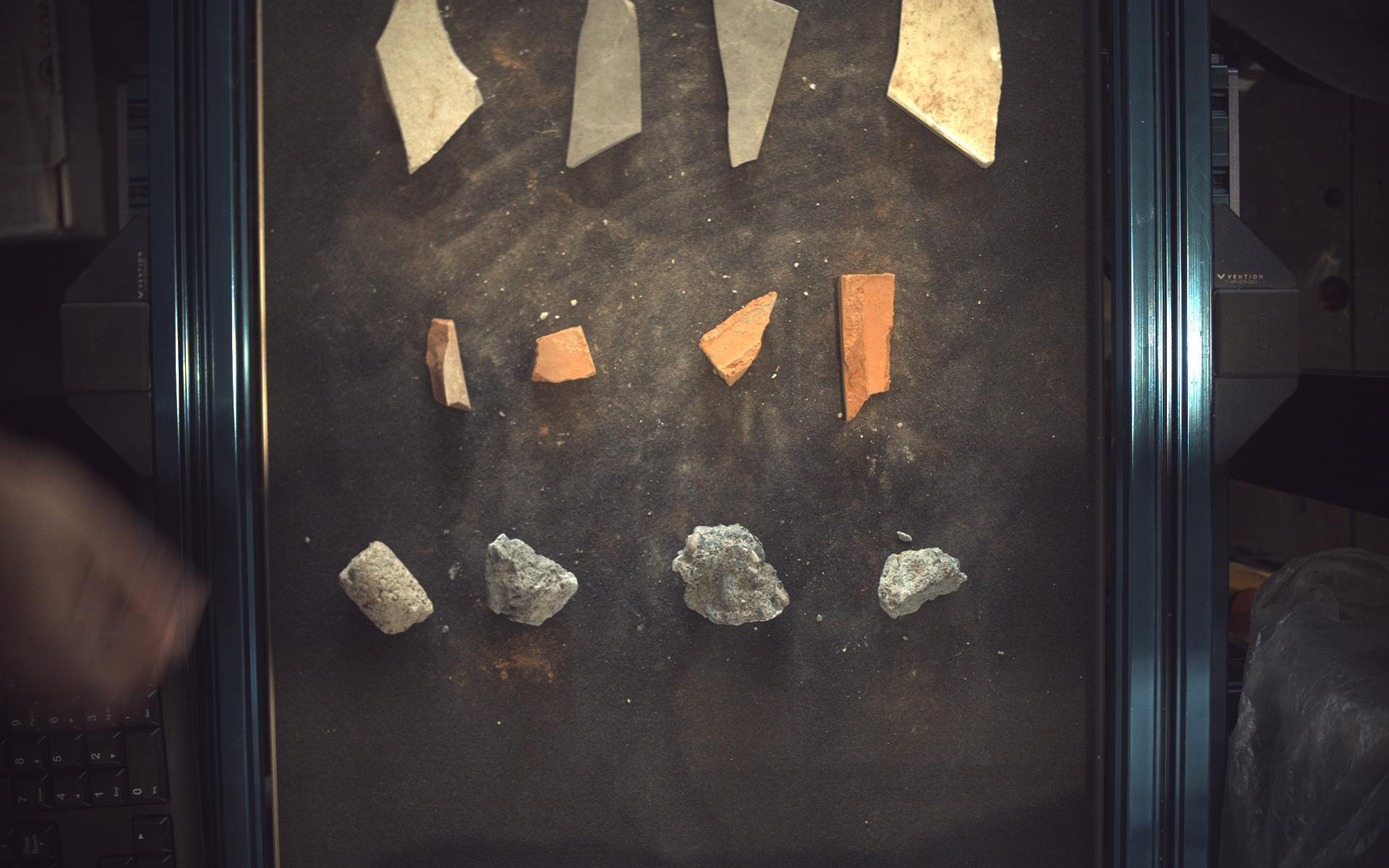brick: (839, 273, 897, 421), (700, 291, 779, 386), (425, 318, 471, 411), (532, 326, 597, 383)
concrete: (673, 524, 790, 626), (339, 541, 433, 635), (485, 534, 579, 626), (880, 548, 969, 618)
tile: (889, 1, 1005, 166), (376, 1, 483, 173), (715, 1, 799, 166), (566, 1, 642, 167)
